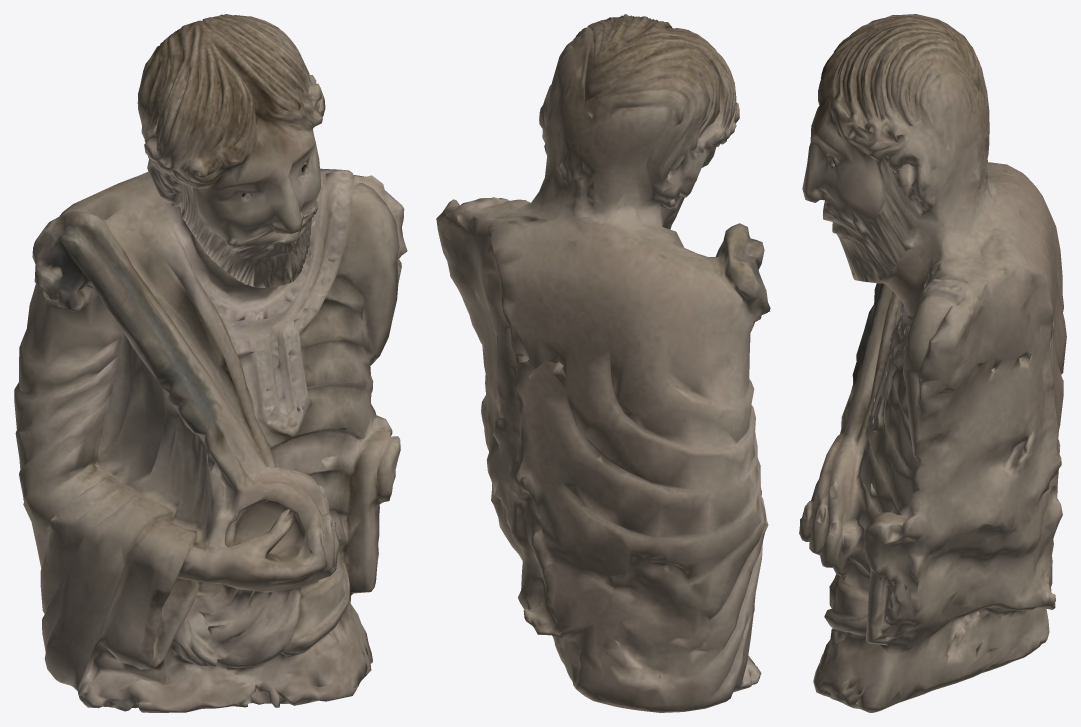
The model's file is saint-peter-b4.glb.
3 renders of one model, left to right at view 1: azimuth 30°, elevation 25°; view 2: azimuth 150°, elevation 25°; view 3: azimuth 270°, elevation 25°, orthographic. The views are drawn at different scales.
Parts seen in each view (by area): view 1: Mesh; view 2: Mesh; view 3: Mesh.
Boxes of the visible parts, x1=… form: Mesh: x1=14, y1=14, x2=407, y2=712; Mesh: x1=436, y1=14, x2=770, y2=712; Mesh: x1=799, y1=14, x2=1066, y2=712.
Bounding box in the file's own units: 0.4326 × 0.7613 × 0.2924.
1 material, 1 textured.
